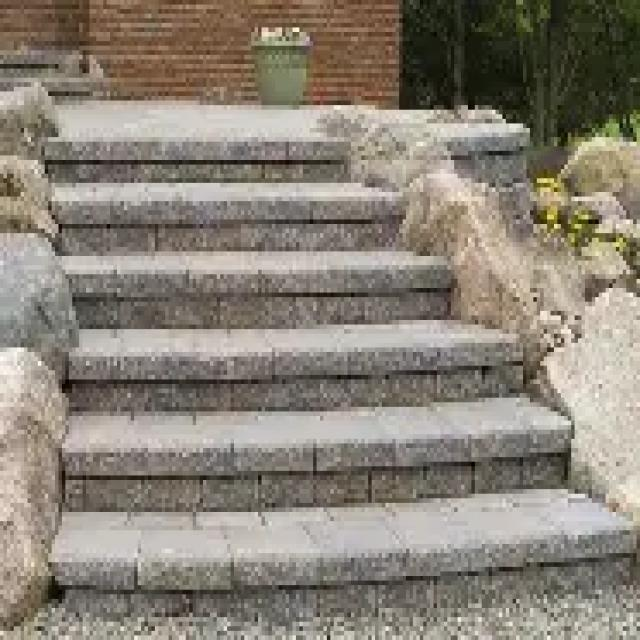Stairs: (55, 138, 631, 631)
